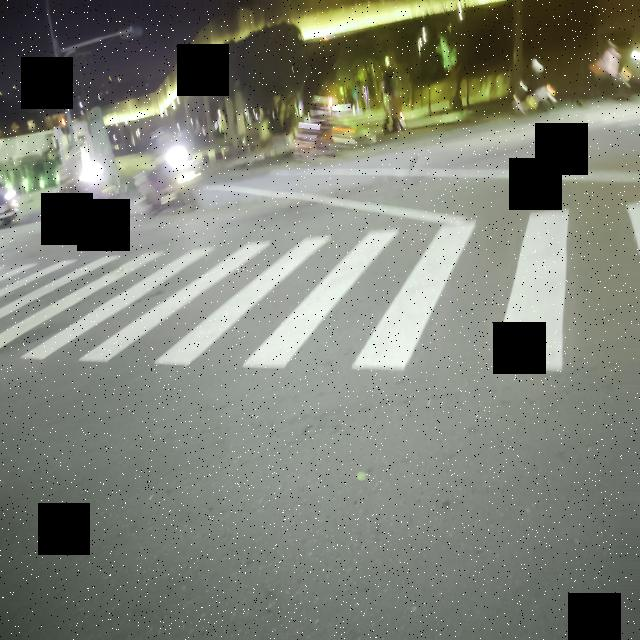zebra crossing: (2, 200, 640, 364)
